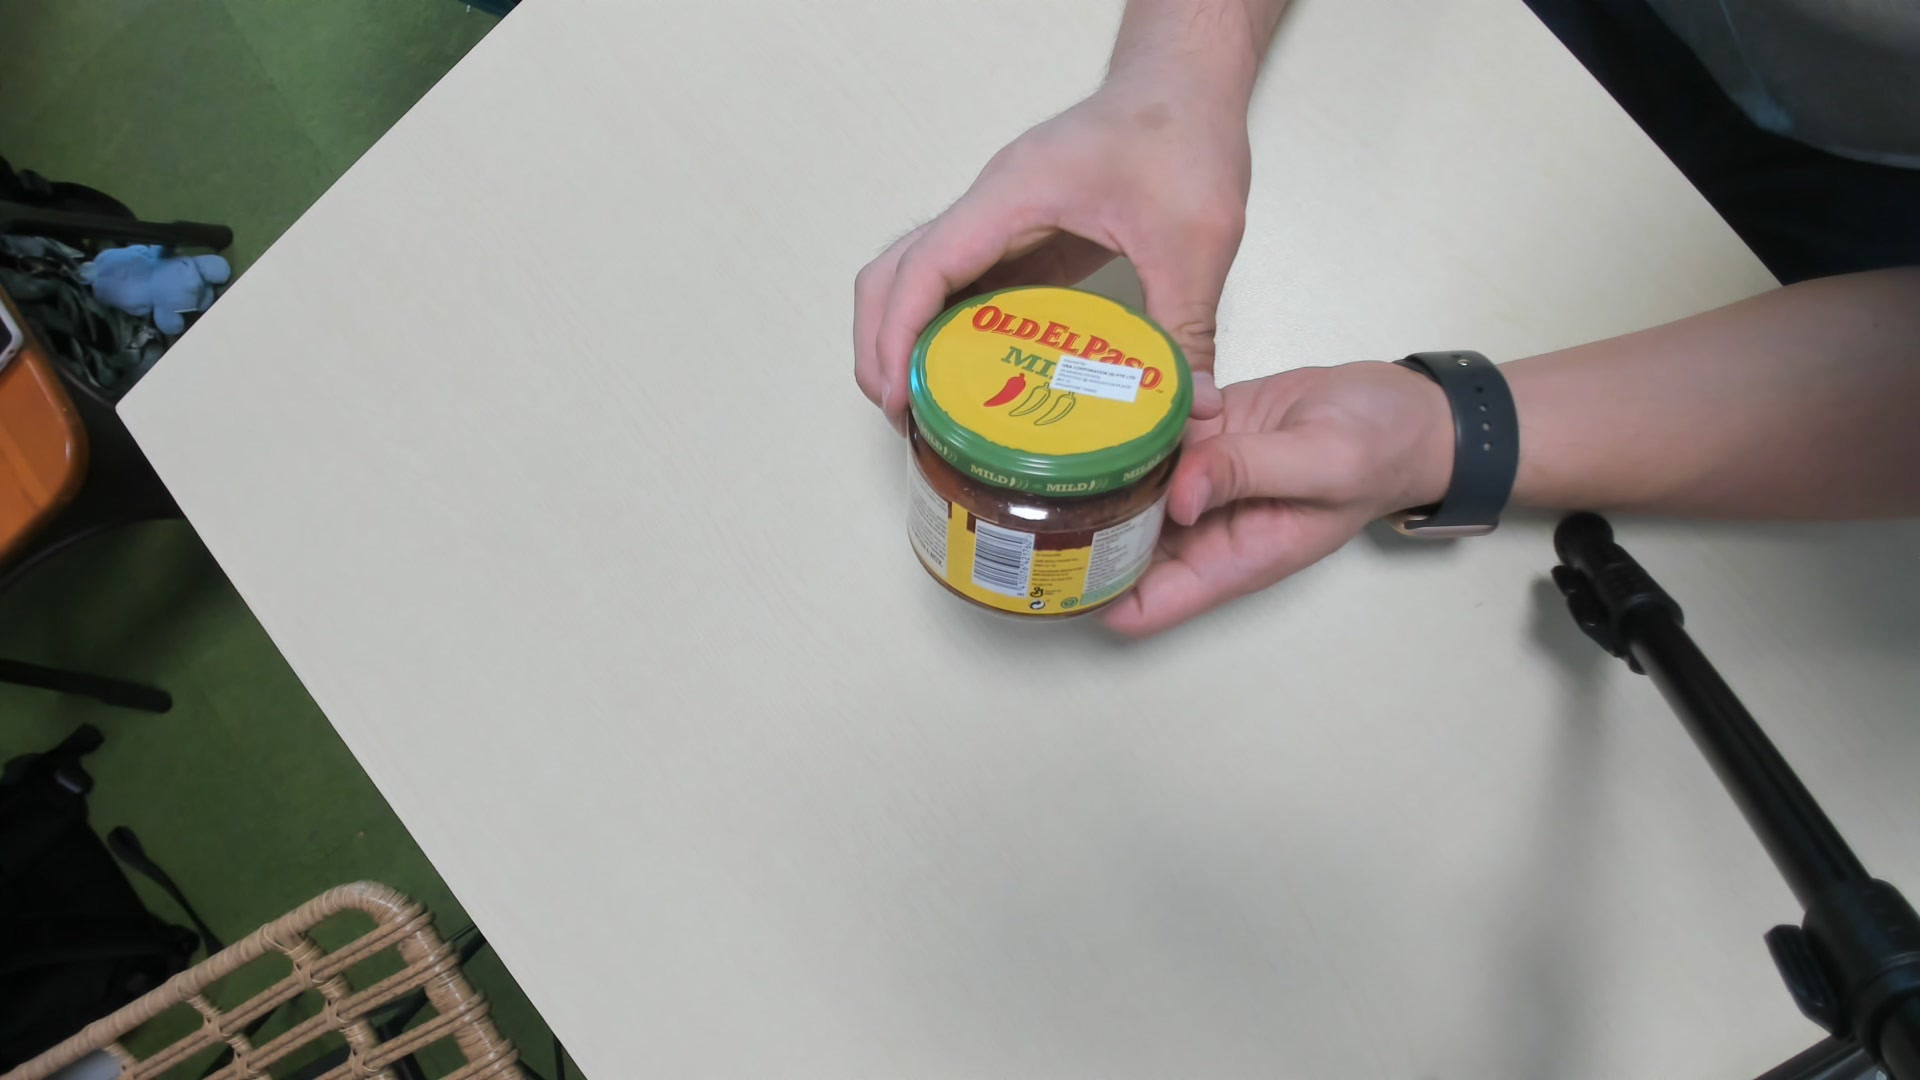OtherSauceDressing_300-399g_NonHalal_NonHealthy: (891, 284, 1191, 622)
